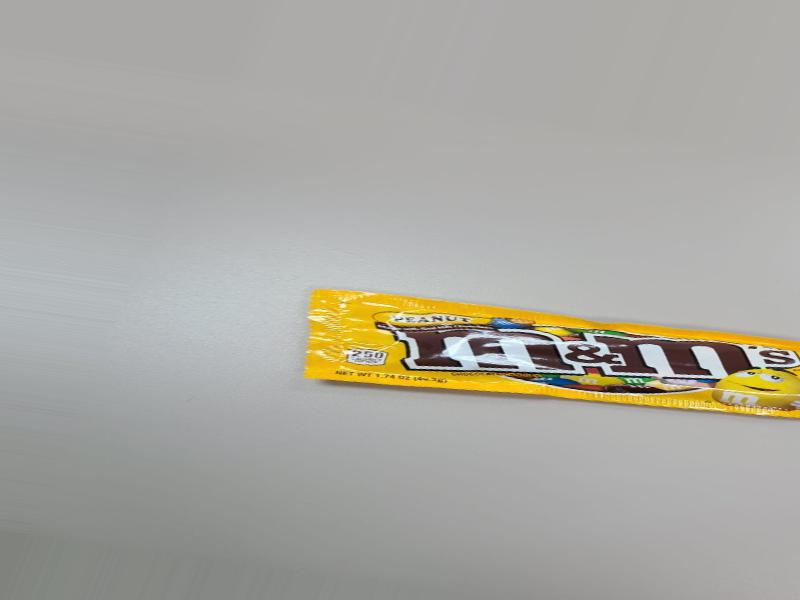m&m: (315, 295, 732, 446)
